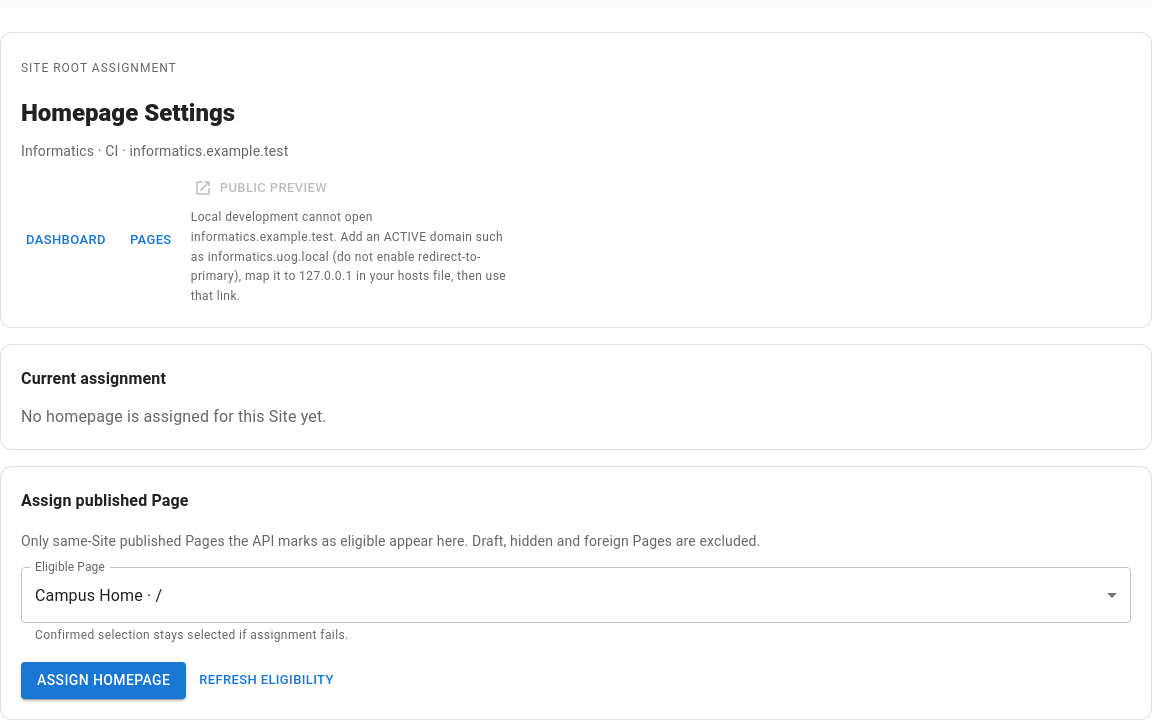
Test: Homepage Settings › keeps the confirmed selection when eligibility is lost between list and submit
(page scrolled)
Click the button "Assign homepage": (104, 680) 21,662 -> 186,699
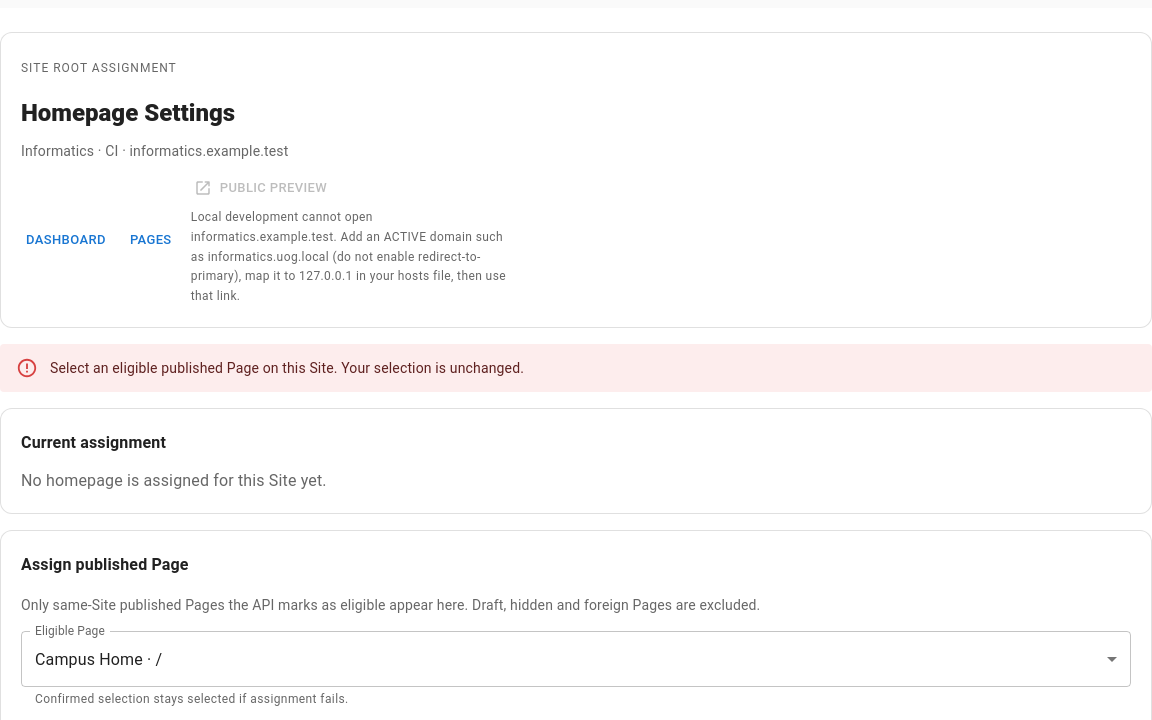
Expected: the dropdown "Campus Home · /" is shown, 35,650 -> 162,669
Result: the text "Your selection is unchanged" is shown at 50,360 -> 524,376
